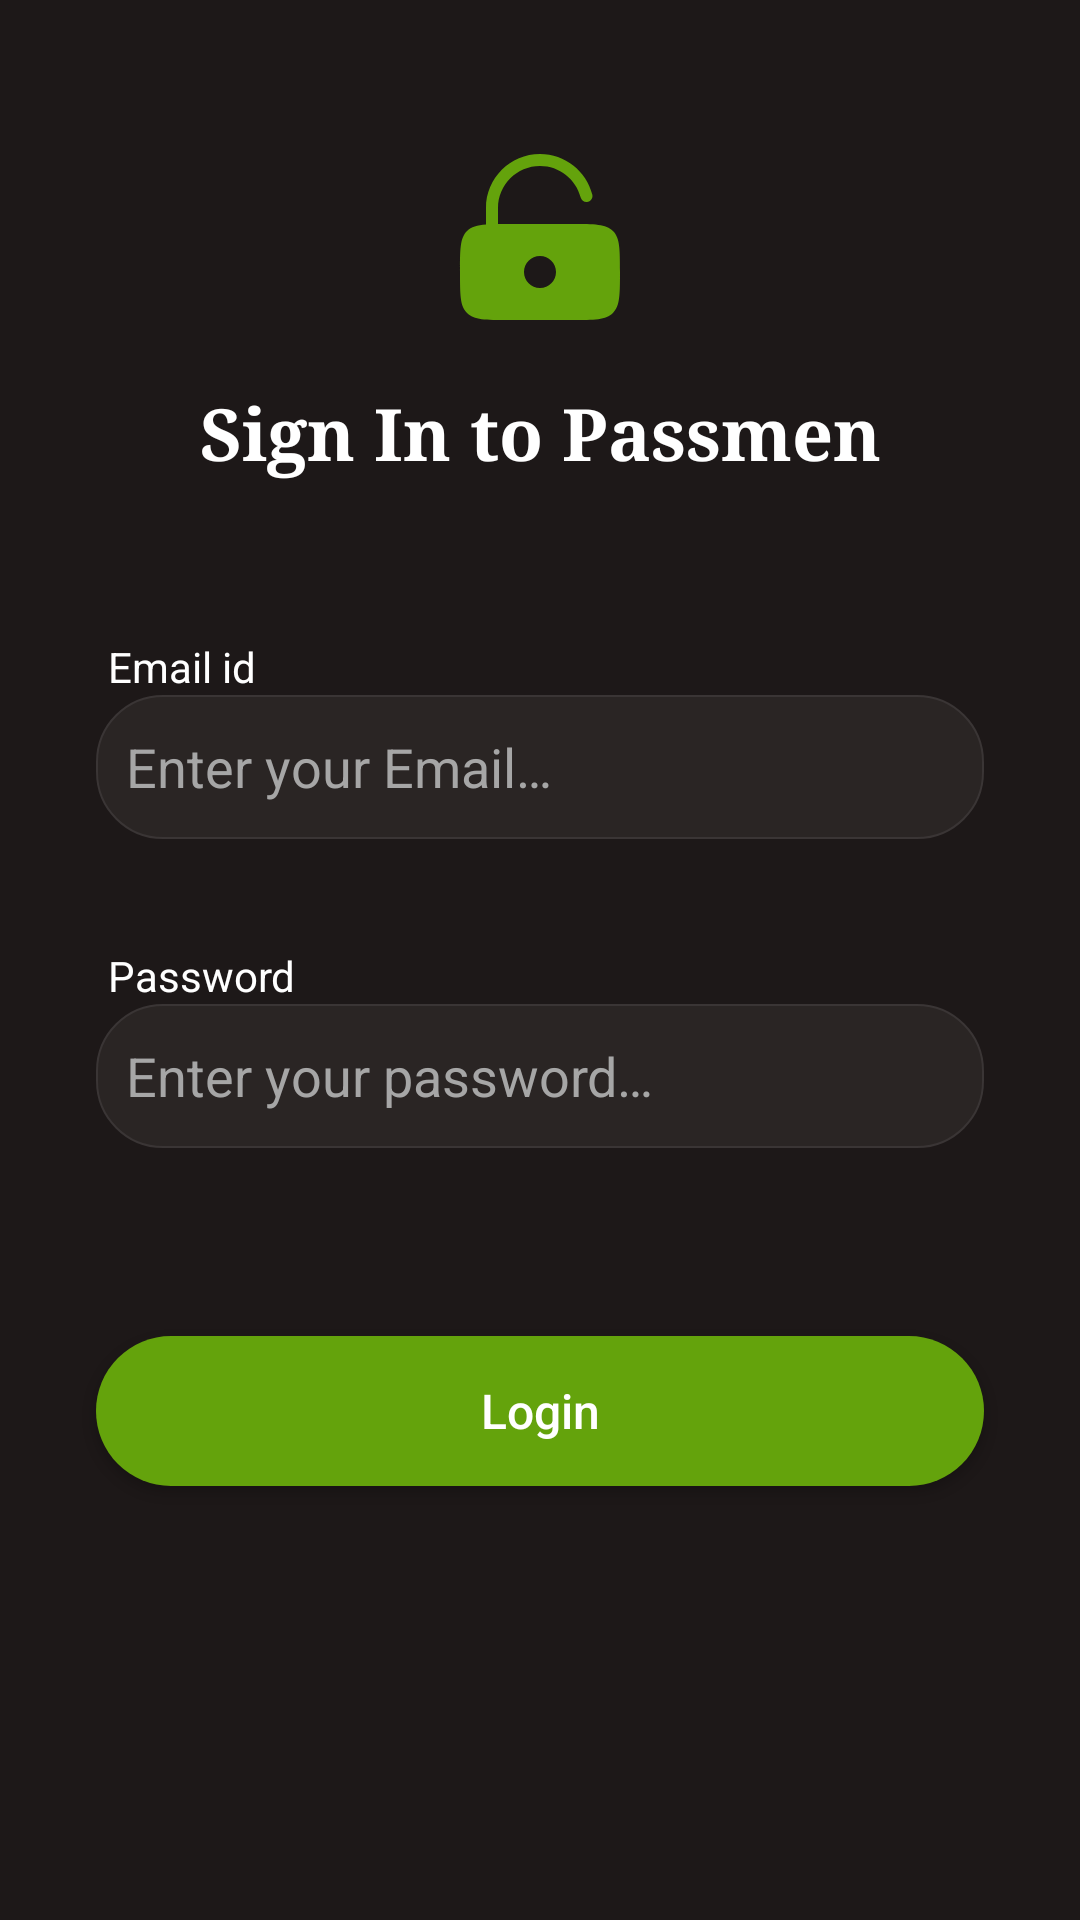

Icons on this 1080×1920 Android screen, each with the point to tap as point (x, y):
lock: point (540, 237)
